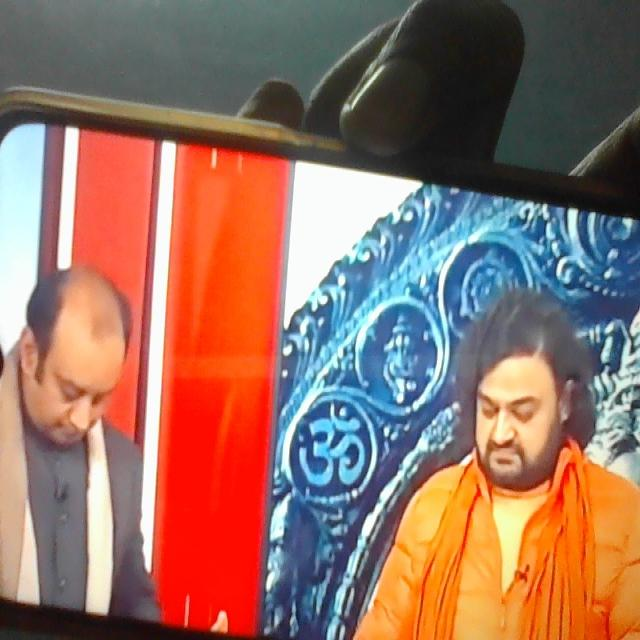fake: (459, 299, 570, 509)
